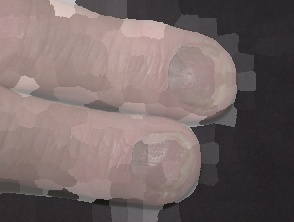Nail_psoriasis: (111, 109, 220, 217), (152, 29, 251, 125)
